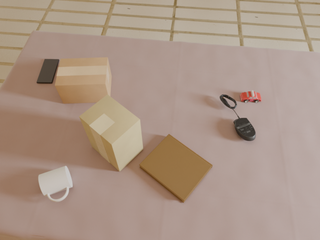book: (139, 134, 213, 203)
box: (79, 94, 143, 171), (55, 57, 111, 103)
cup: (39, 166, 72, 202)
mouse: (234, 116, 256, 141)
phone: (37, 59, 59, 83)
toy_car: (240, 90, 261, 103)
